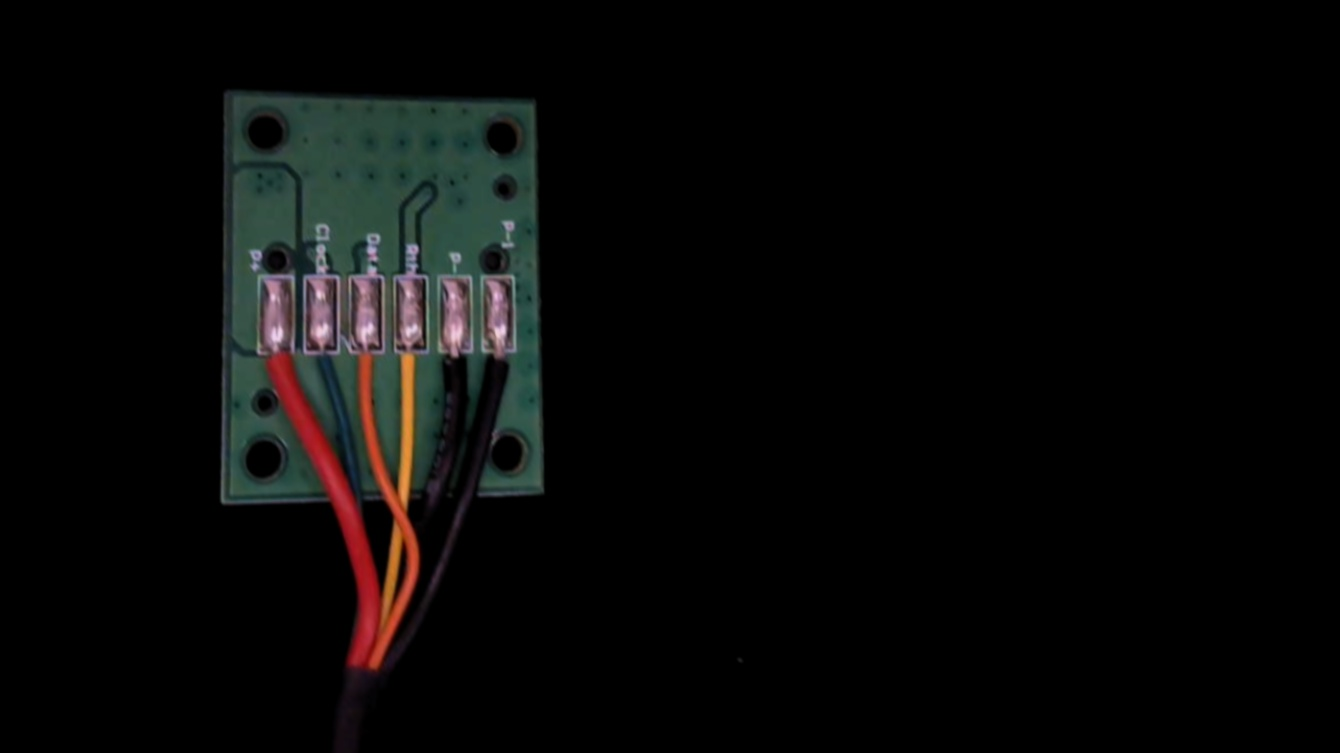Black: (435, 327, 474, 417)
Black1: (480, 329, 518, 412)
Green: (302, 322, 341, 408)
Orange: (346, 328, 383, 416)
Red: (256, 329, 295, 414)
Yellow: (391, 329, 430, 420)
